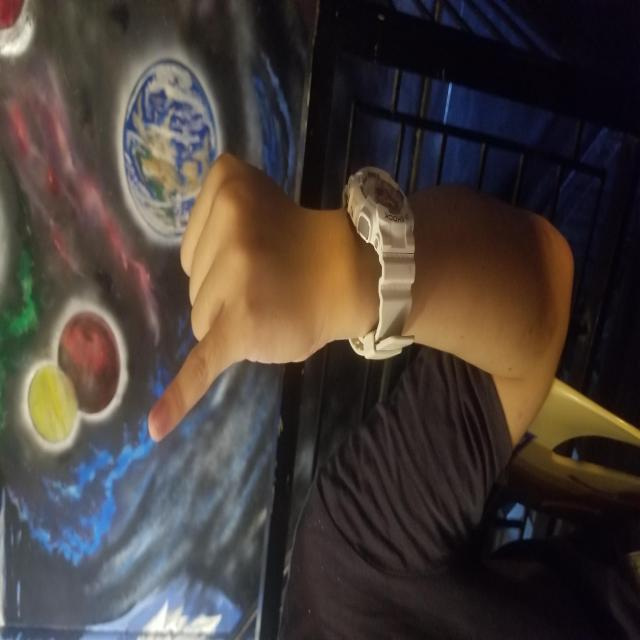J: (197, 146, 491, 310)
